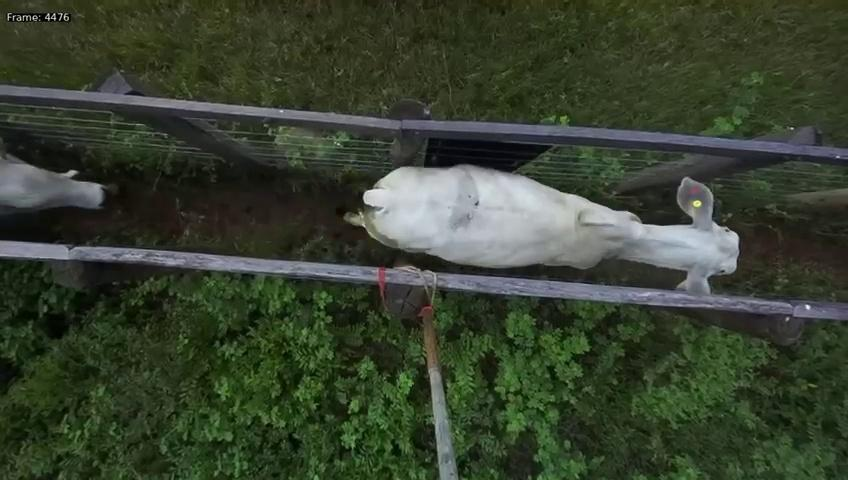cattle: (331, 145, 744, 297)
